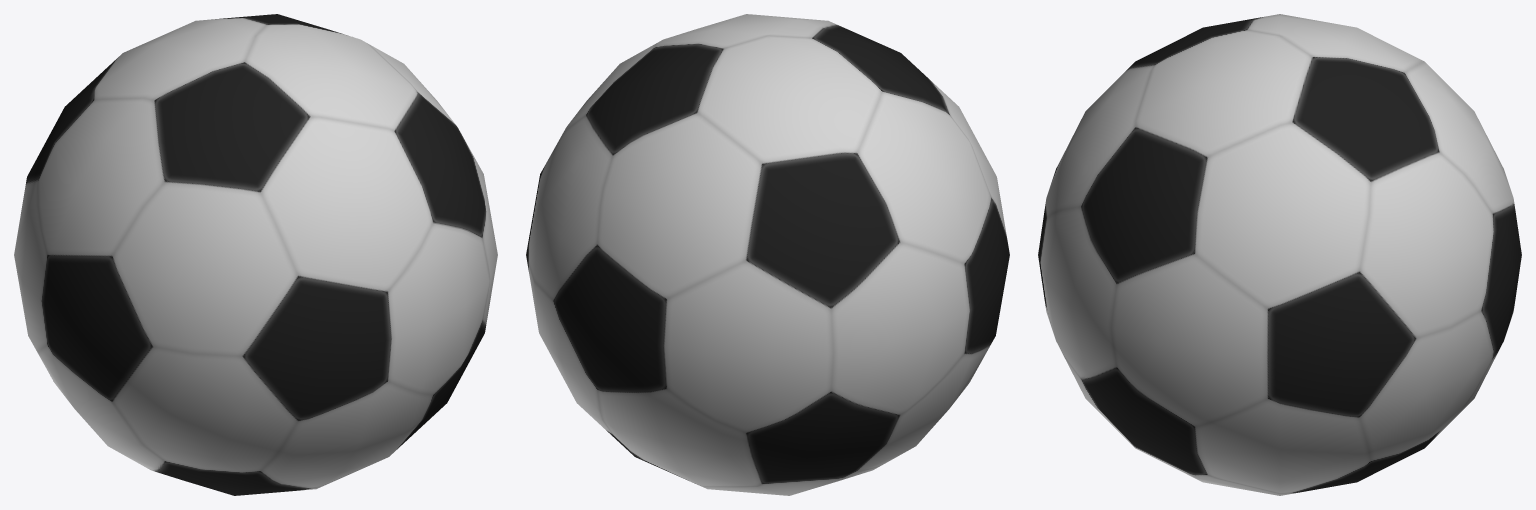
File: Football.FBX
3 renders of one model, left to right at view 1: azimuth 30°, elevation 25°; view 2: azimuth 150°, elevation 25°; view 3: azimuth 270°, elevation 25°, orthographic.
Visible parts, largest first — view 1: Football; view 2: Football; view 3: Football.
Part boxes in pixels (x1,y1,x2,y2): Football: (14, 14, 497, 495); Football: (526, 14, 1009, 495); Football: (1038, 14, 1521, 495).
Size of the model in its own units: 90.86 by 90.86 by 90.86.
